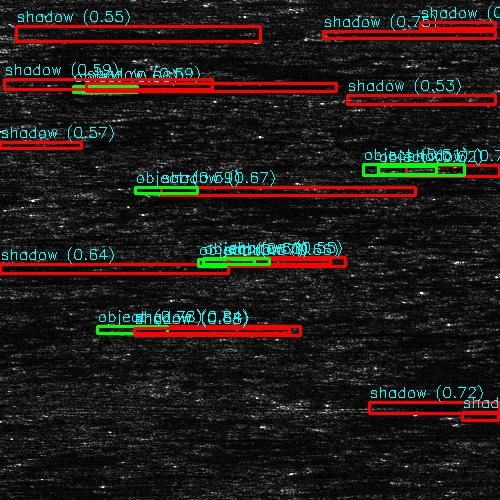rock: (358, 165, 451, 180), (81, 328, 164, 335), (139, 187, 192, 194), (302, 33, 365, 38), (199, 261, 262, 266), (0, 79, 34, 88), (0, 31, 9, 40)
shadow: (0, 79, 352, 88), (4, 31, 225, 40), (166, 187, 409, 194), (123, 328, 355, 335), (405, 165, 500, 180), (334, 33, 494, 38), (231, 261, 313, 266)
